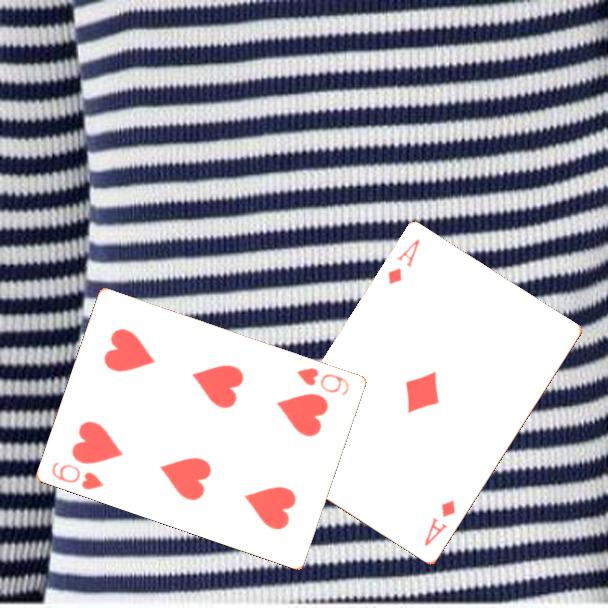d01: (384, 236, 423, 288), (420, 497, 458, 550)
h06: (48, 458, 107, 493), (293, 364, 353, 398)
